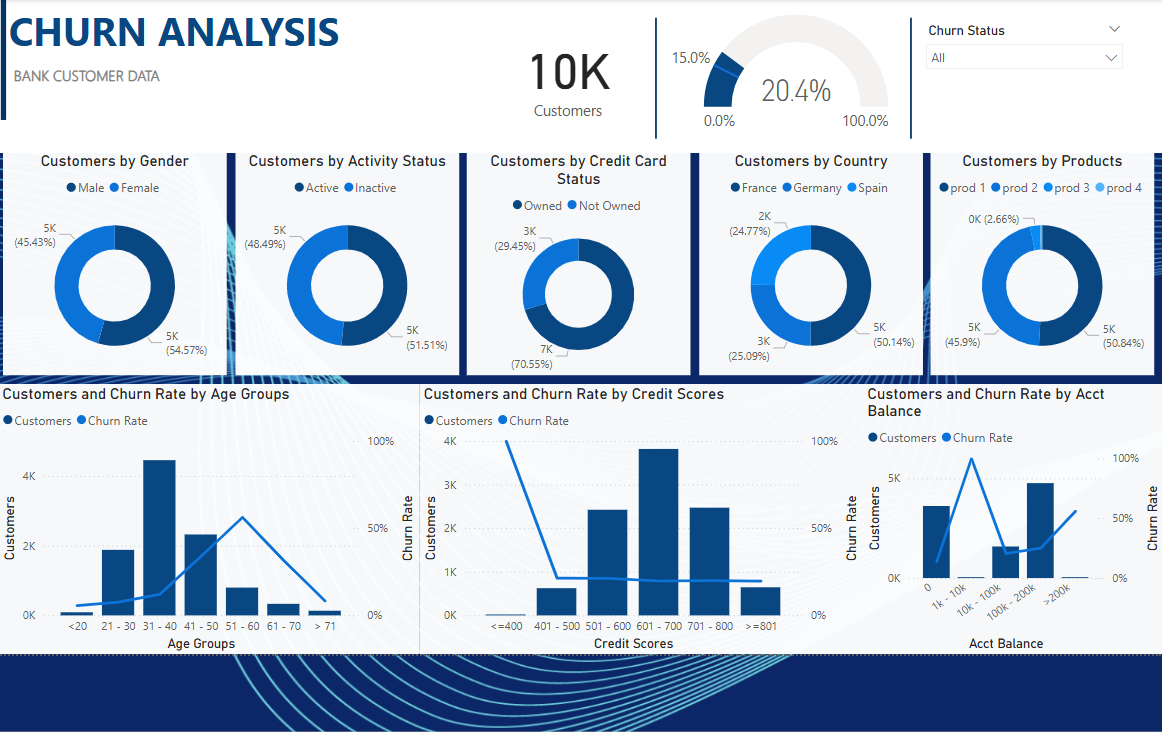

This screenshot's page, from the dashboard's own definition file:
{"tool":"powerbi","page":{"name":"Page 1","canvas":[1280,720],"ordinal":0},"visuals":[{"type":"shape","box":[0,0,1280,169.2],"z":0},{"type":"card","fields":{"Values":["Customer Data.Customers"]},"box":[495.4,0,260.7,167.4],"z":1000},{"type":"donutChart","fields":{"Category":["Customer Data.Gender"],"Y":["Customer Data.Customers"]},"box":[5.5,167.3,245.6,245.6],"z":2000},{"type":"donutChart","fields":{"Y":["Customer Data.Customers"],"Category":["Customer Data.Activity Status"]},"box":[260,167.3,245.6,245.6],"z":3000},{"type":"donutChart","fields":{"Y":["Customer Data.Customers"],"Category":["Customer Data.Credit Card Status"]},"box":[514.6,167.3,245.6,245.6],"z":4000},{"type":"donutChart","fields":{"Y":["Customer Data.Customers"],"Category":["Customer Data.Country"]},"box":[769.1,167.3,245.6,245.6],"z":5000},{"type":"donutChart","fields":{"Y":["Customer Data.Customers"],"Category":["Customer Data.Products"]},"box":[1023.7,167.3,245.6,245.6],"z":6000},{"type":"lineStackedColumnComboChart","fields":{"Category":["Age Groups.Age Groups"],"Y":["Customer Data.Customers"],"Y2":["Customer Data.Churn Rate"]},"box":[0,422.6,462.4,297.8],"z":7000},{"type":"lineStackedColumnComboChart","fields":{"Y":["Customer Data.Customers"],"Y2":["Customer Data.Churn Rate"],"Category":["Credit Score Groups.Credit Scores"]},"box":[462.4,422.6,487.1,297.8],"z":8000},{"type":"lineStackedColumnComboChart","fields":{"Y":["Customer Data.Customers"],"Y2":["Customer Data.Churn Rate"],"Category":["Acct Balance Groups.Acct Balance"]},"box":[949.6,422.6,330.7,297.8],"z":9000},{"type":"slicer","fields":{"Values":["Customer Data.Churn Status"]},"box":[1008.6,20.6,236,93.3],"z":10000},{"type":"gauge","fields":{"Y":["Customer Data.Churn Rate"],"MinValue":["Min(Customer Data.Min Churn Rate)"],"MaxValue":["Max(Customer Data.Max Churn Rate)"],"TargetValue":["Max(Customer Data.Target Churn Rate)"]},"box":[728.6,0,253.9,167.4],"z":11000},{"type":"textbox","box":[6.9,0,376,167.4],"z":12000},{"type":"textbox","box":[12.3,67.2,237.4,32.9],"z":13000},{"type":"shape","box":[0,0,12.3,133.1],"z":14000},{"type":"shape","box":[996.2,20.6,12.3,133.1],"z":15000},{"type":"shape","box":[716.3,20.6,12.3,133.1],"z":16000}]}

Visuals, with their boxes in screenshot pixels (x1, y1, x2, y2):
shape: 0:6:1146:158
card - Customer Data.Customers: 444:6:677:156
donutChart - Customer Data.Gender x Customer Data.Customers: 5:156:225:376
donutChart - Customer Data.Customers x Customer Data.Activity Status: 233:156:453:376
donutChart - Customer Data.Customers x Customer Data.Credit Card Status: 461:156:681:376
donutChart - Customer Data.Customers x Customer Data.Country: 689:156:908:376
donutChart - Customer Data.Customers x Customer Data.Products: 916:156:1136:376
lineStackedColumnComboChart - Age Groups.Age Groups x Customer Data.Customers: 0:384:414:651
lineStackedColumnComboChart - Customer Data.Customers x Customer Data.Churn Rate: 414:384:850:651
lineStackedColumnComboChart - Customer Data.Customers x Customer Data.Churn Rate: 850:384:1146:651
slicer - Customer Data.Churn Status: 903:24:1114:108
gauge - Customer Data.Churn Rate x Min(Customer Data.Min Churn Rate): 652:6:880:156
textbox: 6:6:343:156
textbox: 11:66:224:96
shape: 0:6:11:125
shape: 892:24:903:144
shape: 641:24:652:144
